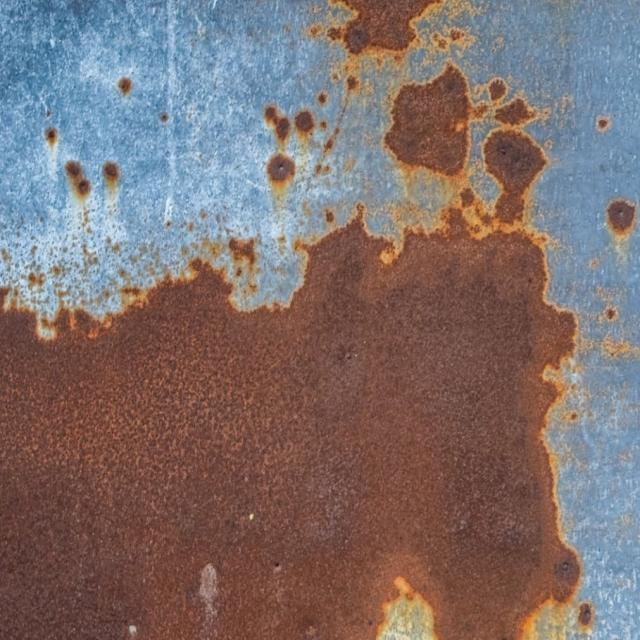Uniform Corrosion: (0, 220, 579, 639), (383, 61, 545, 237), (474, 78, 548, 231), (263, 104, 336, 199), (344, 0, 435, 53), (605, 198, 636, 242)
